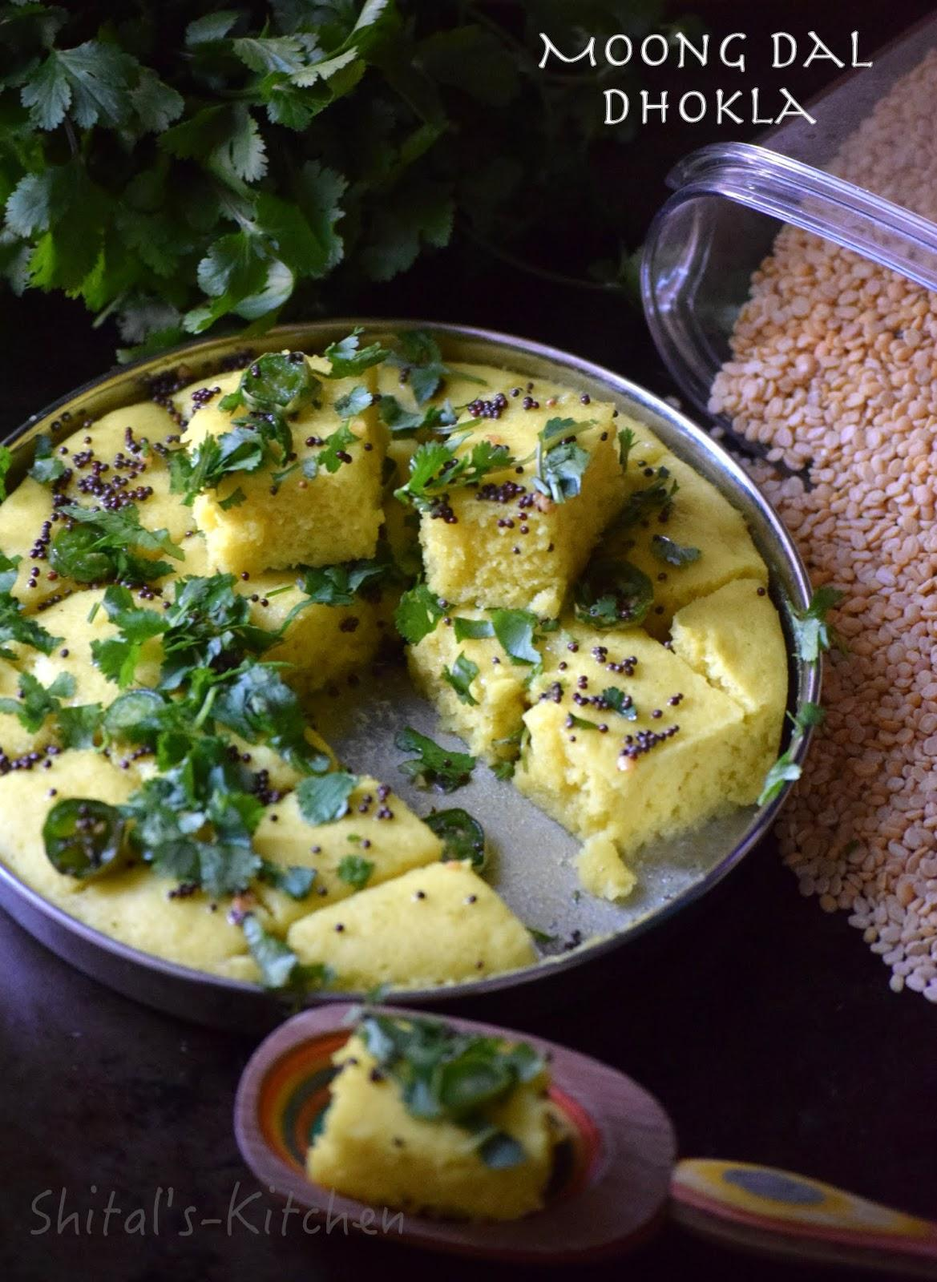dhokla: (8, 331, 777, 957)
